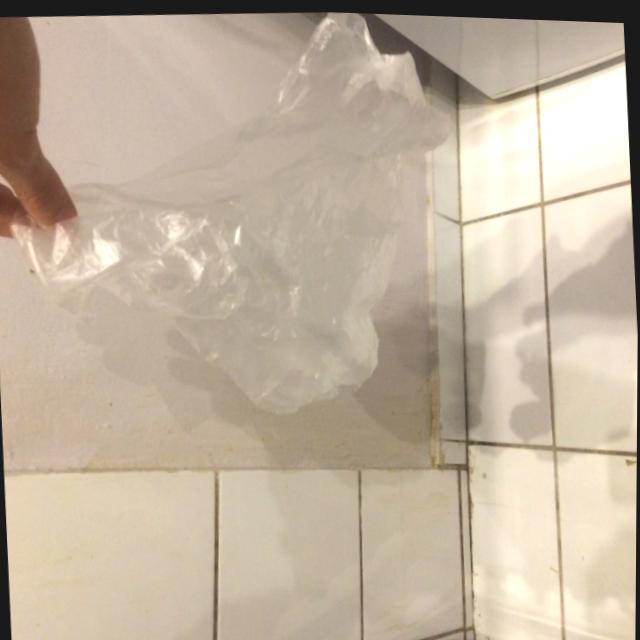Plastic: (0, 0, 481, 451)
